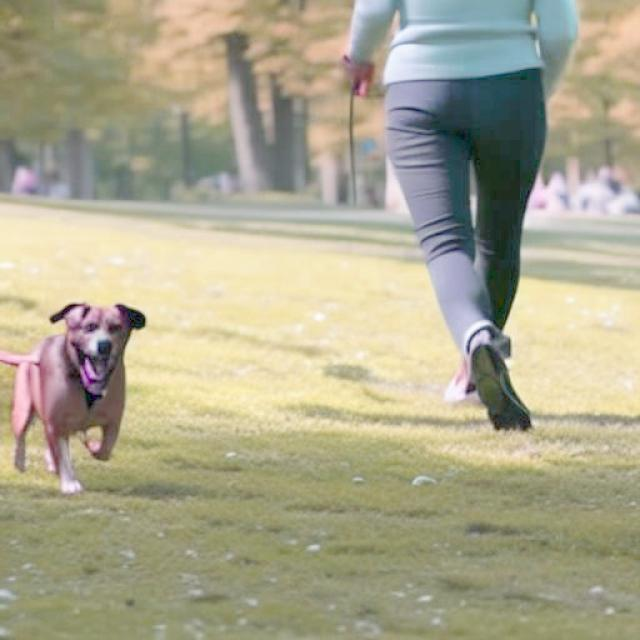Unleashed_Dog: (0, 80, 546, 494)
